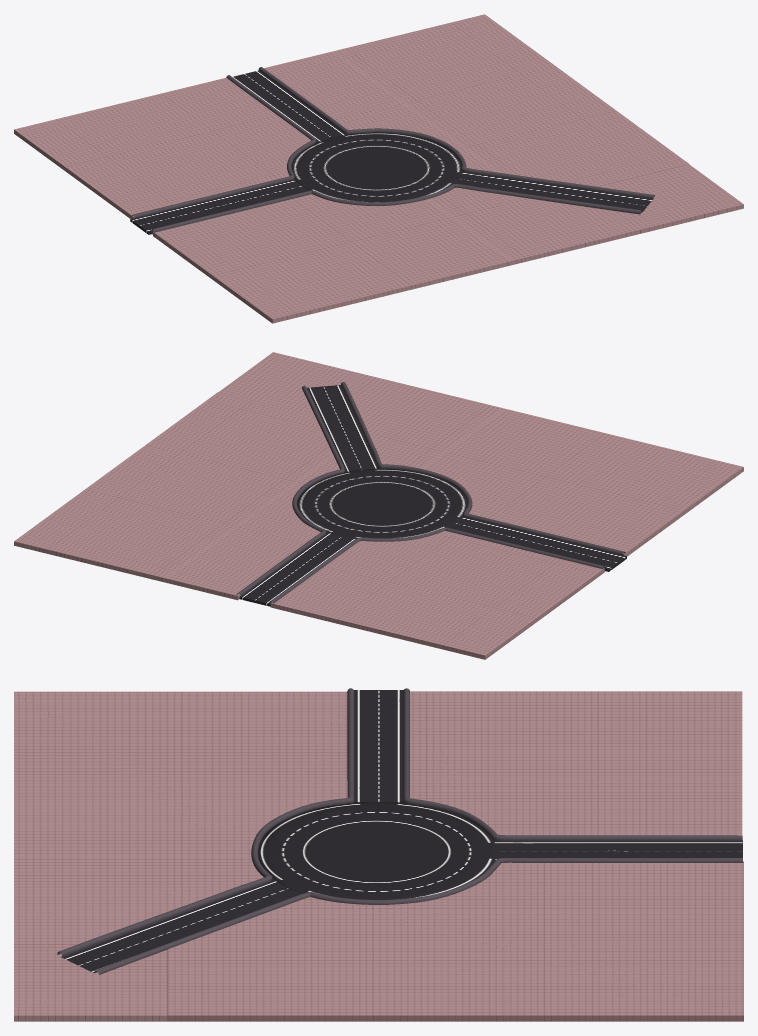
Rendered from mapa1-suelo.fbx.
3 renders of one model, top to bottom at view 1: azimuth 30°, elevation 25°; view 2: azimuth 150°, elevation 25°; view 3: azimuth 270°, elevation 25°, orthographic. The views are drawn at different scales.
Visible parts, largest first — view 1: Cube.007, Cube.006, Cube.002, Cube.003, Cube.001, BezierCurve, BezierCurve.002, BezierCurve.001; view 2: Cube.007, Cube.006, Cube.003, Cube.002, Cube.001, BezierCurve, BezierCurve.002, BezierCurve.001; view 3: Cube.007, Cube.006, Cube.002, Cube.003, Cube.001, BezierCurve.002, BezierCurve, BezierCurve.001.
Part boxes in pixels (<box>): Cube.007: <box>14,14,743,323</box>; Cube.006: <box>291,132,462,202</box>; Cube.002: <box>130,179,308,234</box>; Cube.003: <box>455,171,652,212</box>; Cube.001: <box>232,70,347,142</box>; BezierCurve: <box>151,184,641,234</box>; BezierCurve.002: <box>258,67,654,198</box>; BezierCurve.001: <box>132,75,316,218</box>; Cube.007: <box>14,352,743,659</box>; Cube.006: <box>297,468,467,538</box>; Cube.003: <box>307,385,380,472</box>; Cube.002: <box>449,517,626,571</box>; Cube.001: <box>239,532,355,606</box>; BezierCurve: <box>341,382,625,555</box>; BezierCurve.002: <box>236,385,344,598</box>; BezierCurve.001: <box>269,527,605,603</box>; Cube.007: <box>14,691,743,1021</box>; Cube.006: <box>258,802,497,899</box>; Cube.002: <box>354,690,403,802</box>; Cube.003: <box>63,879,302,972</box>; Cube.001: <box>494,840,742,860</box>; BezierCurve.002: <box>94,857,743,974</box>; BezierCurve: <box>57,688,354,957</box>; BezierCurve.001: <box>403,688,742,841</box>.
Bounding box in the file's own units: 9801 × 173 × 9266.
